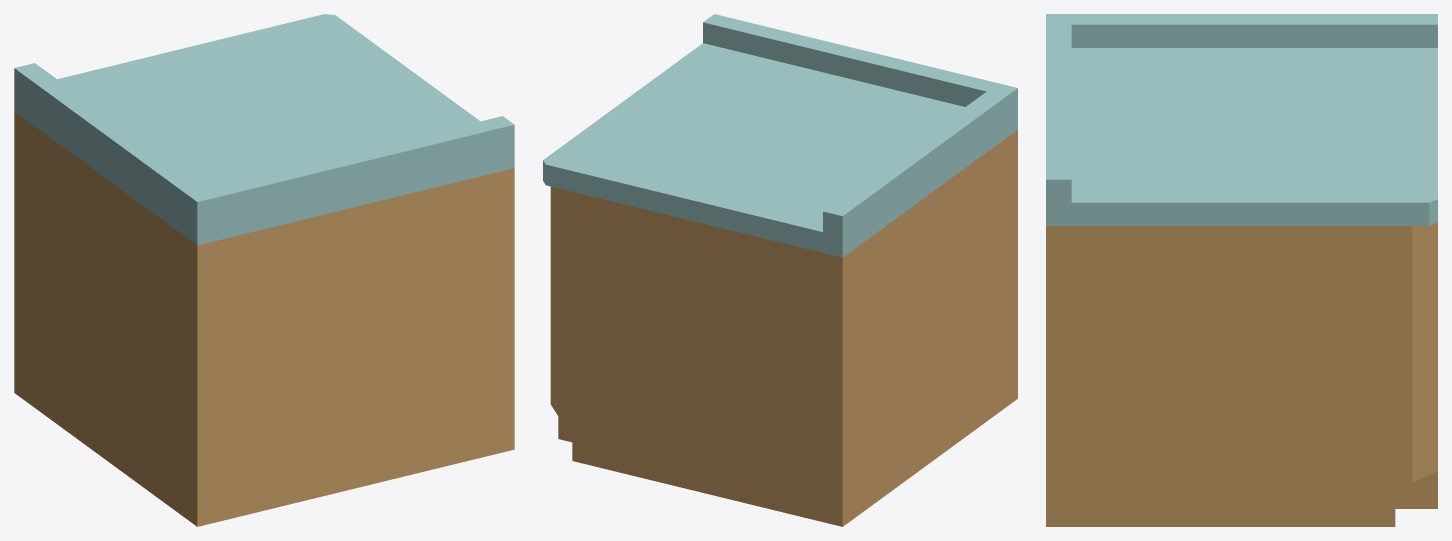
Rendered from kitchenCabinetCornerInner.glb.
The picture shows the model from 3 angles, left to right: view 1: azimuth 30°, elevation 25°; view 2: azimuth 150°, elevation 25°; view 3: azimuth 270°, elevation 25°; orthographic projection. The views are drawn at different scales.
Bounding box in the file's own units: 4.6 × 4.5 × 4.6.
